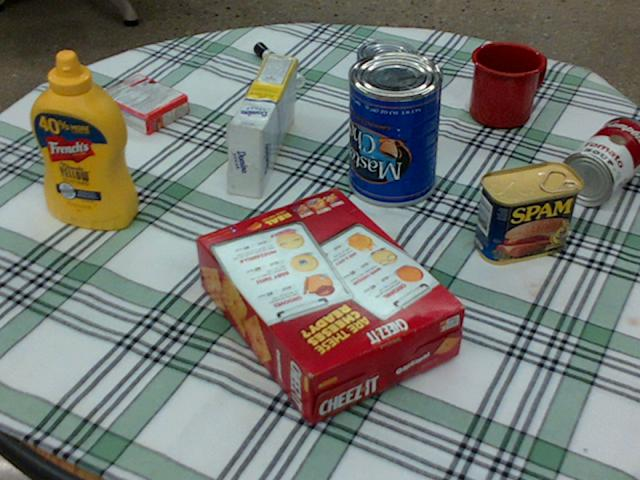cracker_box: (195, 188, 465, 425)
gelatin_box: (97, 75, 187, 134)
large_marker: (254, 41, 303, 86)
master_chef_can: (345, 50, 444, 205)
mug: (470, 41, 546, 128)
mustard_bottle: (30, 50, 137, 228)
potted_meat_can: (474, 161, 581, 264)
sugar_box: (227, 53, 295, 197)
tomato_soup_can: (559, 118, 639, 204)
tuna_fish_can: (356, 39, 417, 87)
